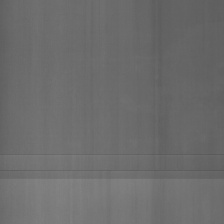welding_line: (0, 164, 224, 180), (0, 148, 224, 160)
